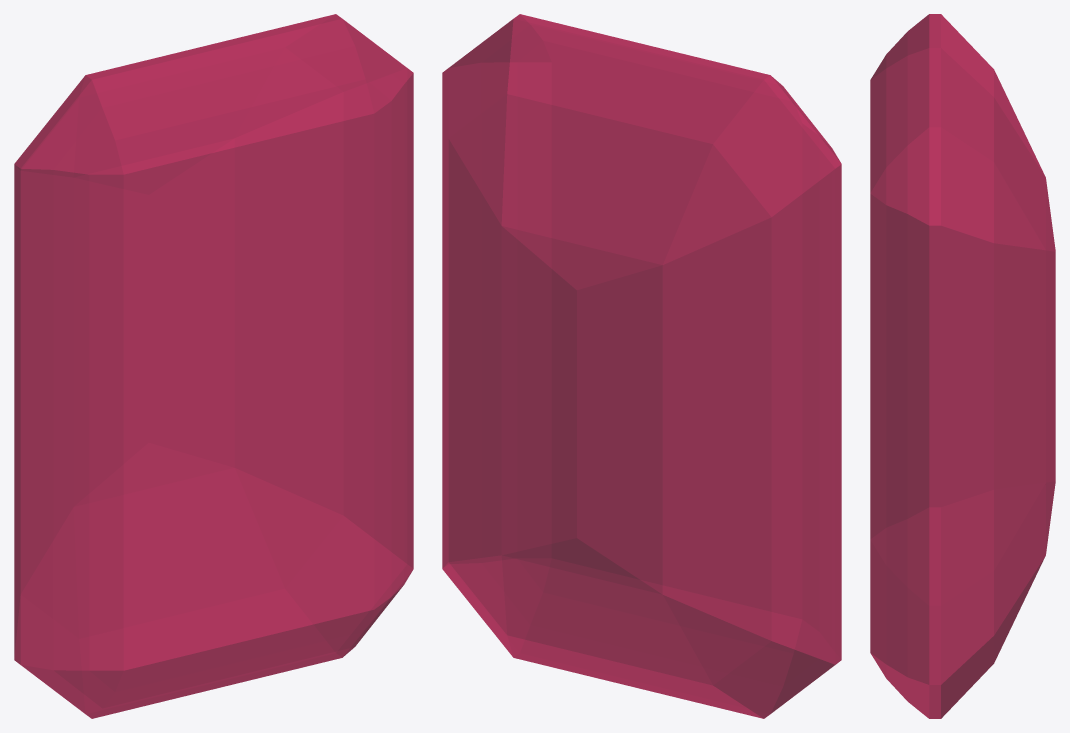
Rendered from emerald spinell.glb.
3 views of the same model, side by side, from view 1: azimuth 30°, elevation 25°; view 2: azimuth 150°, elevation 25°; view 3: azimuth 270°, elevation 25° (orthographic). The views are drawn at different scales.
Visible parts, largest first — view 1: Emerald; view 2: Emerald; view 3: Emerald.
Boxes of the visible parts, x1,y1,x2,y2 form: Emerald: (14,14,413,718); Emerald: (442,14,841,718); Emerald: (870,14,1055,718).
Size of the model in its own units: 1.29 by 2 by 0.568.
